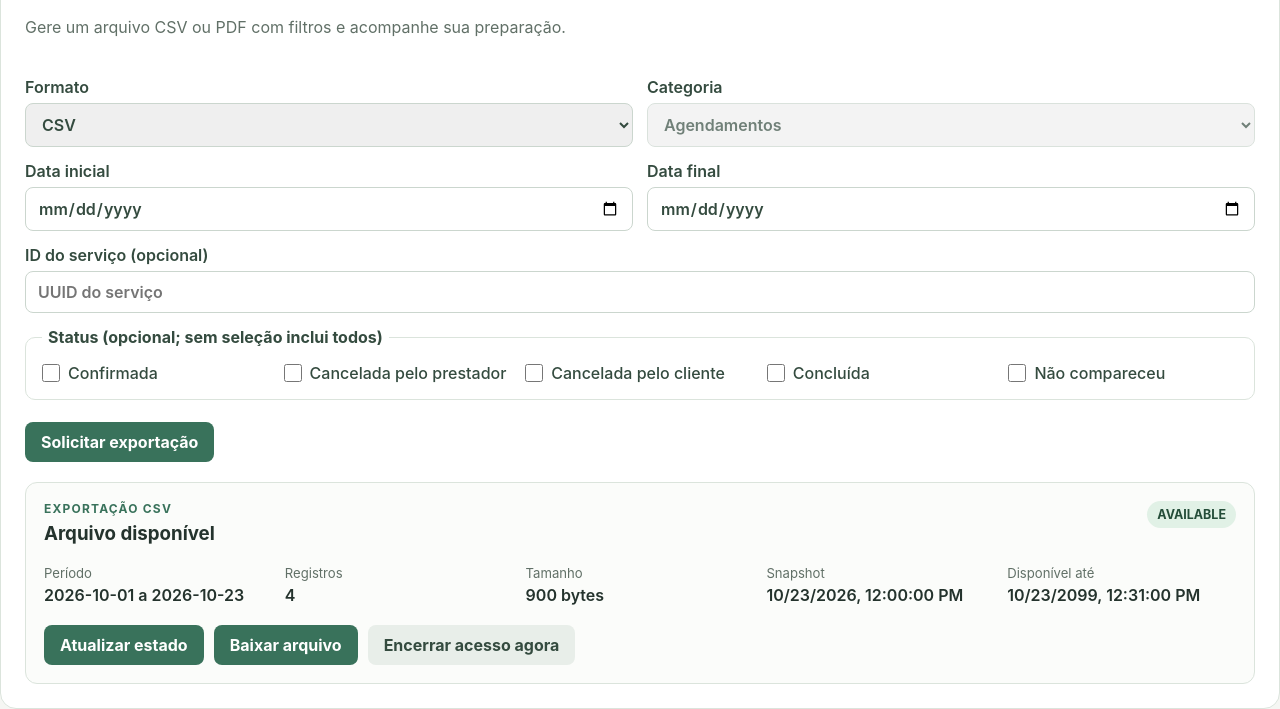
Test: ExportCenter DOM interactions › downloads only after obtaining an in-memory handle and stops at 410
(page scrolled)
Click the button "Baixar arquivo". click: (286, 645)
box: [214,625,358,665]
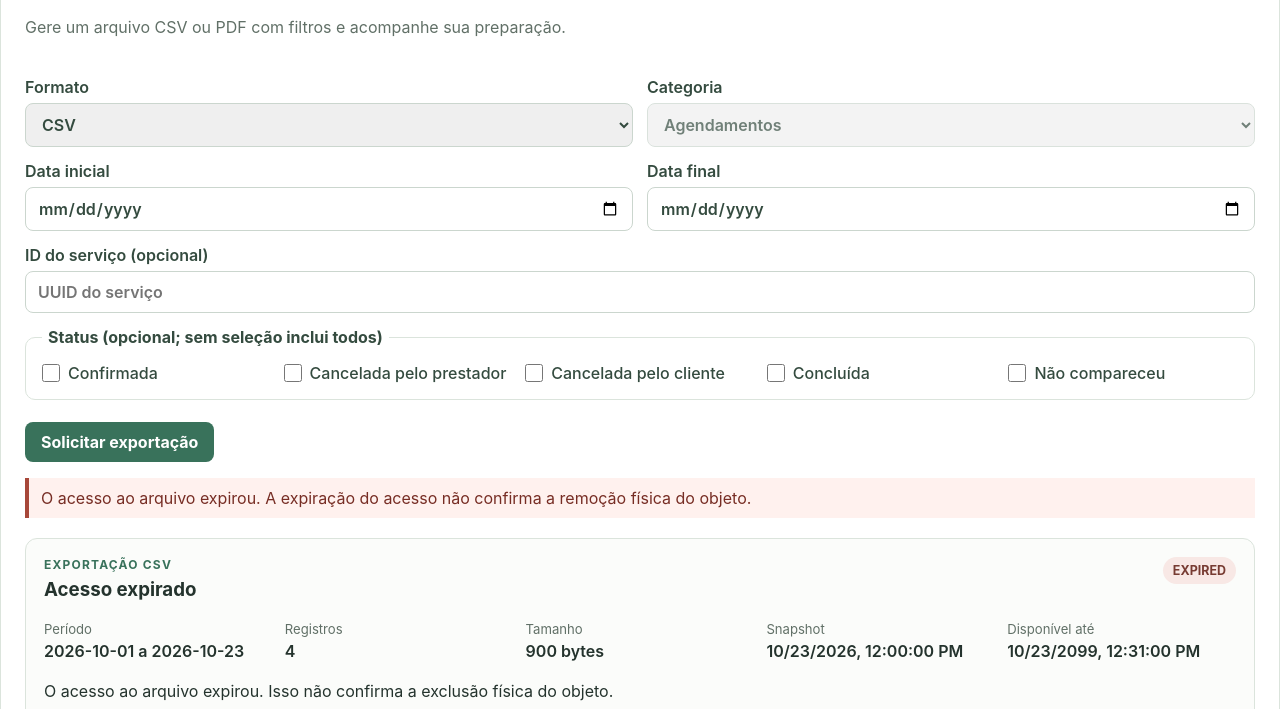
expect the text "não confirma a remoção física" is shown: met, box [41,488,751,508]
